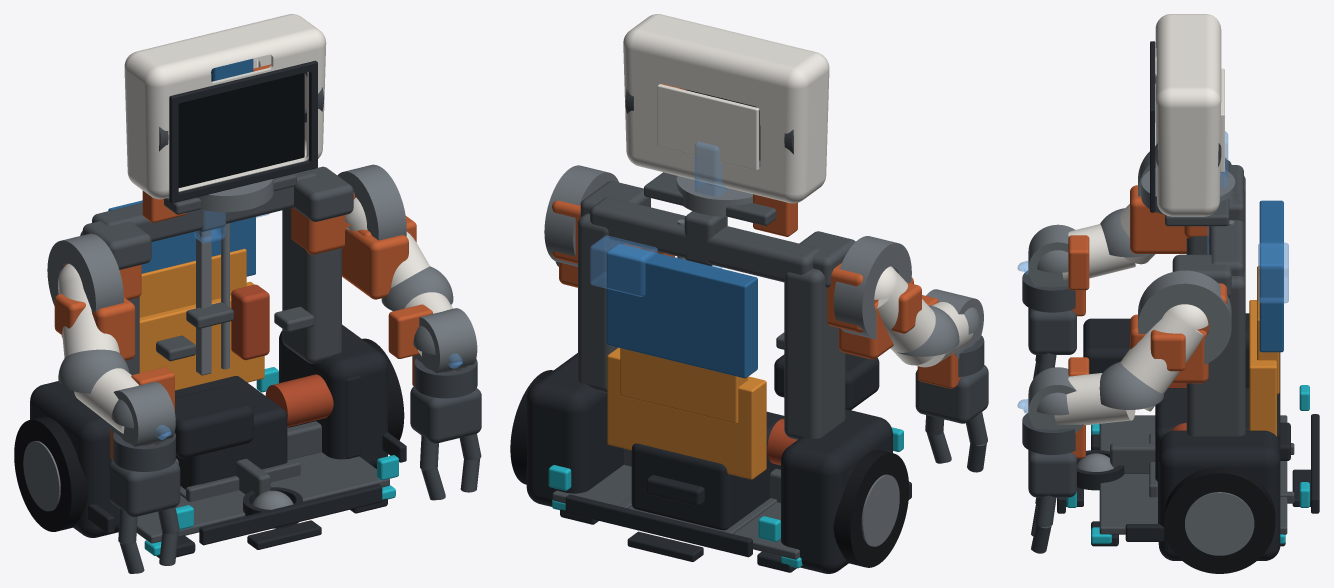
File: ZI-E_v1_0_CUTAWAY.gltf
3 renders of one model, left to right at view 1: azimuth 30°, elevation 25°; view 2: azimuth 150°, elevation 25°; view 3: azimuth 270°, elevation 25°, orthographic. The views are drawn at different scales.
Parts seen in each view (by area): view 1: head_shell, display_3p5_ILI9488_env, shoulder_tower_1, lower_chassis, wheel_1_fairing, wheel_-1_fairing, battery_cassette, power_distribution_board_env, head_bezel, speaker_chamber, wheel_-1_tire, arm_-1_pod (+44 smaller); view 2: head_shell, main_multimedia_board_env, shoulder_tower_-1, wheel_-1_fairing, power_distribution_board_env, wheel_1_fairing, battery_cassette, rear_bridge, head_rear_hatch, shoulder_tower_1, safety_motion_board_env, wheel_-1_tire (+25 smaller); view 3: head_shell, shoulder_tower_1, wheel_1_fairing, lower_chassis, wheel_1_tire, arm_1_pod, main_multimedia_board_env, wheel_1_hub, arm_1_upper, power_distribution_board_env, arm_-1_shoulder_servo_2, arm_1_forearm (+34 smaller).
Boxes of the visible parts, x1,y1,x2,y2 form: head_shell: (124,14,326,199); display_3p5_ILI9488_env: (178,73,304,187); shoulder_tower_1: (282,166,353,363); lower_chassis: (136,421,389,543); wheel_1_fairing: (279,324,388,468); wheel_-1_fairing: (30,381,119,537); battery_cassette: (175,376,287,489); power_distribution_board_env: (139,281,264,390); head_bezel: (169,60,317,203); speaker_chamber: (175,387,253,458); wheel_-1_tire: (14,416,87,531); arm_-1_pod: (47,233,123,312); head_shell: (623,14,829,203); main_multimedia_board_env: (606,244,757,378); shoulder_tower_-1: (784,231,855,439); wheel_-1_fairing: (781,409,892,573); power_distribution_board_env: (607,347,766,479); wheel_1_fairing: (526,353,623,506); battery_cassette: (631,414,784,530); rear_bridge: (590,197,819,282); head_rear_hatch: (657,84,759,170); shoulder_tower_1: (578,181,650,392); safety_motion_board_env: (620,348,747,423); wheel_-1_tire: (833,450,909,567); head_shell: (1155,14,1221,216); shoulder_tower_1: (1172,254,1245,436); wheel_1_fairing: (1158,430,1280,560); lower_chassis: (1099,415,1287,534); wheel_1_tire: (1164,467,1275,573); arm_1_pod: (1138,270,1231,364); main_multimedia_board_env: (1259,200,1283,352); wheel_1_hub: (1185,492,1254,555); arm_1_upper: (1120,304,1208,411); power_distribution_board_env: (1249,300,1276,436); arm_-1_shoulder_servo_2: (1130,185,1186,253); arm_1_forearm: (1054,373,1135,425).
Bounding box in the file's own units: 248 × 282 × 174.
